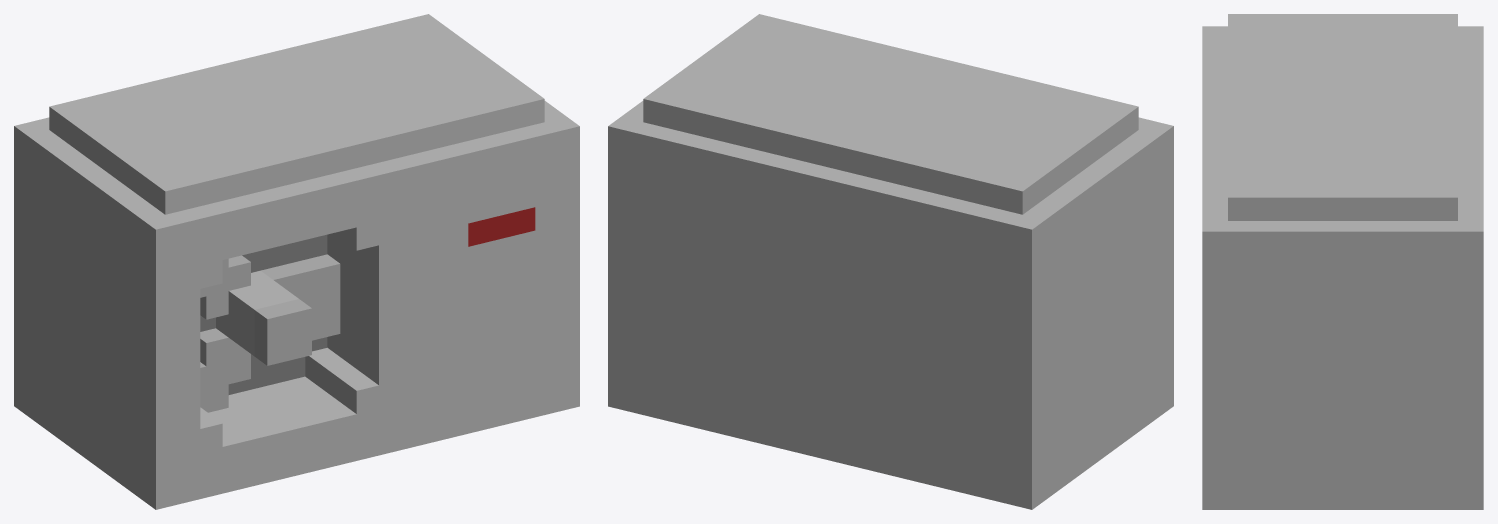
Rendered from WhiteBox.obj.
3 renders of one model, left to right at view 1: azimuth 30°, elevation 25°; view 2: azimuth 150°, elevation 25°; view 3: azimuth 270°, elevation 25°, orthographic.
Bounding box in the file's own units: 1.9 × 1.3 × 1.1.
1 material, 1 textured.
